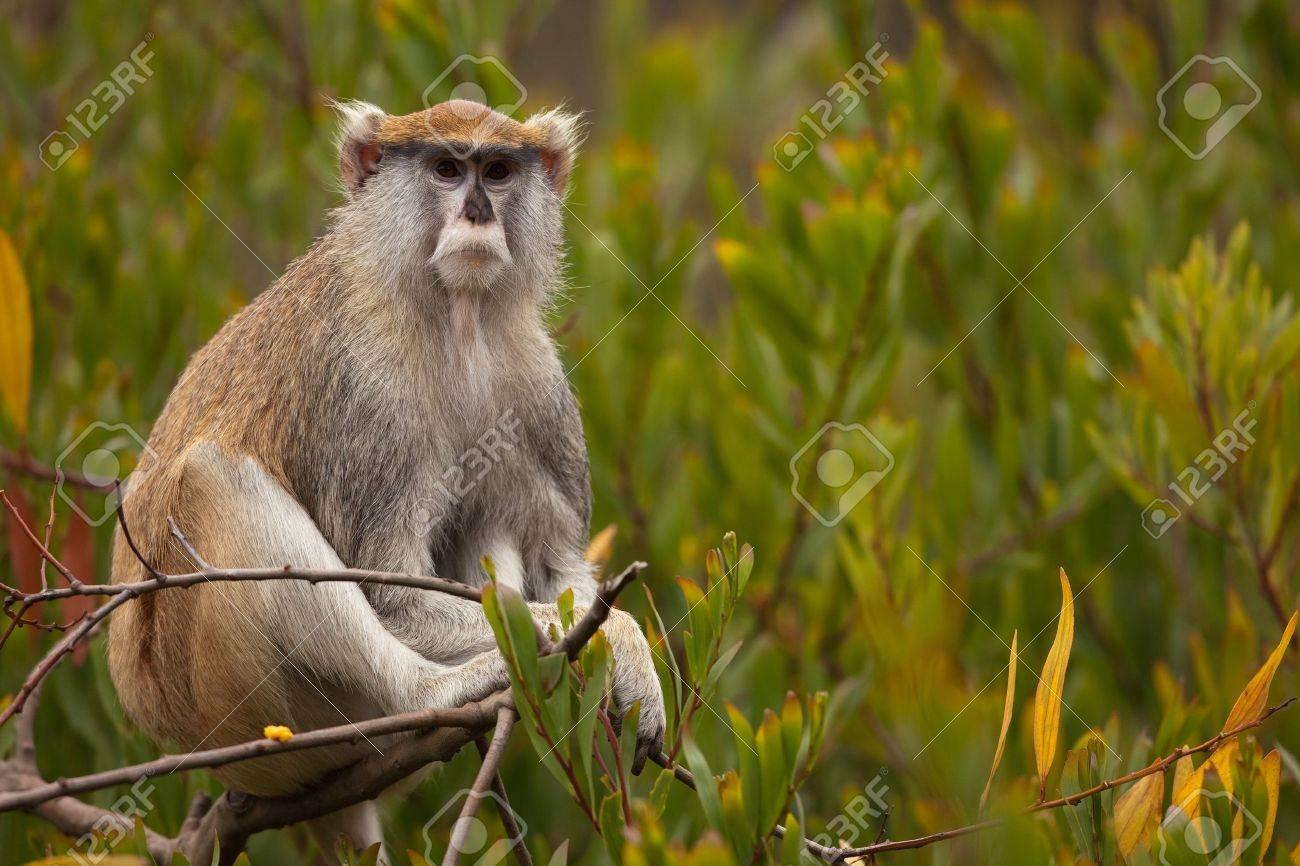monkey: (126, 92, 601, 654)
